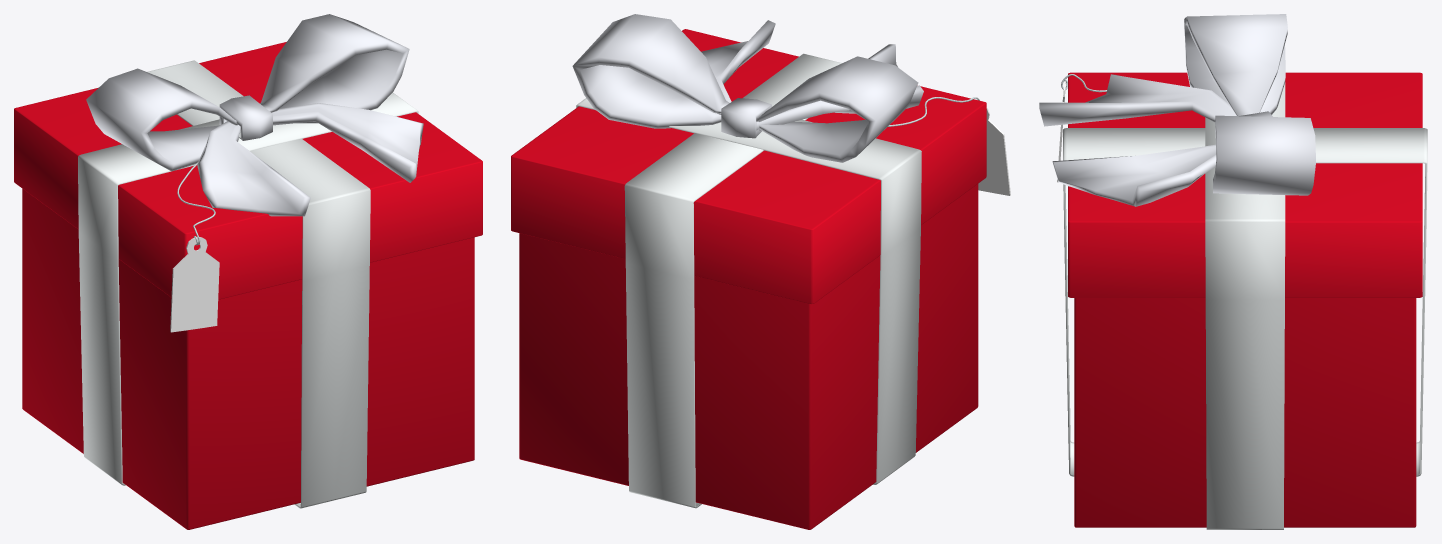
File: gift0.glb
The picture shows the model from 3 angles, left to right: view 1: azimuth 30°, elevation 25°; view 2: azimuth 150°, elevation 25°; view 3: azimuth 270°, elevation 25°; orthographic projection. The views are drawn at different scales.
Parts seen in each view (by area): view 1: Box01, Ribbon01, Bow01, Tag01; view 2: Box01, Ribbon01, Bow01, Tag01; view 3: Box01, Ribbon01, Bow01.
Part boxes in pixels (x1,y1,x2,y2): Box01: (14,42,482,529); Ribbon01: (78,60,418,508); Bow01: (86,14,423,216); Tag01: (170,162,219,332); Box01: (511,29,986,529); Ribbon01: (576,53,921,508); Bow01: (572,14,923,162); Tag01: (888,97,1010,195); Box01: (1068,72,1422,527); Ribbon01: (1063,83,1427,529); Bow01: (1039,14,1315,206).
Size of the model in its own units: 0.215 by 0.2458 by 0.2203.
